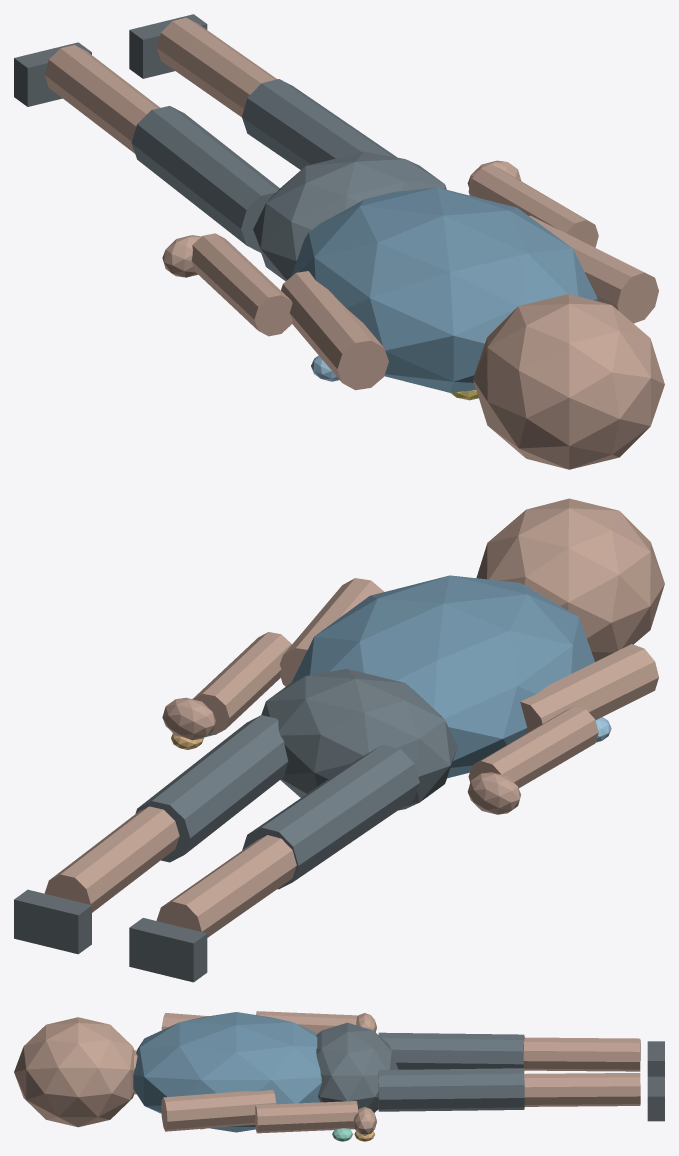
Rendered from patient-vitals-low.glb.
3 renders of one model, top to bottom at view 1: azimuth 30°, elevation 25°; view 2: azimuth 150°, elevation 25°; view 3: azimuth 270°, elevation 25°, orthographic. The views are drawn at different scales.
Parts seen in each view (by area): view 1: torso, head, left_thigh, pelvis, right_thigh, left_upper_arm, left_lower_leg, right_lower_leg, left_forearm, right_upper_arm, right_forearm, left_foot (+2 smaller); view 2: torso, head, pelvis, left_thigh, right_thigh, left_lower_leg, right_lower_leg, left_upper_arm, left_forearm, right_forearm, left_foot, right_foot (+3 smaller); view 3: torso, head, right_thigh, pelvis, left_thigh, left_lower_leg, right_lower_leg, right_upper_arm, right_forearm, left_forearm, right_foot, left_foot (+4 smaller).
Part boxes in pixels (left/top/right/bottom): torso: left=291, top=187, right=597, bottom=392; head: left=473, top=294, right=664, bottom=469; left_thigh: left=131, top=106, right=279, bottom=252; pelvis: left=253, top=151, right=446, bottom=281; right_thigh: left=242, top=79, right=397, bottom=169; left_upper_arm: left=281, top=271, right=388, bottom=390; left_lower_leg: left=44, top=45, right=160, bottom=153; right_lower_leg: left=156, top=17, right=276, bottom=117; left_forearm: left=191, top=233, right=292, bottom=336; right_upper_arm: left=529, top=215, right=658, bottom=323; right_forearm: left=468, top=165, right=598, bottom=247; left_foot: left=14, top=42, right=91, bottom=106; torso: left=292, top=575, right=594, bottom=778; head: left=476, top=498, right=664, bottom=661; pelvis: left=261, top=668, right=457, bottom=810; left_thigh: left=242, top=745, right=419, bottom=889; right_thigh: left=135, top=715, right=288, bottom=862; left_lower_leg: left=156, top=835, right=296, bottom=937; right_lower_leg: left=44, top=806, right=179, bottom=912; left_upper_arm: left=520, top=644, right=658, bottom=734; left_forearm: left=468, top=706, right=598, bottom=788; right_forearm: left=192, top=632, right=291, bottom=734; left_foot: left=129, top=918, right=207, bottom=982; right_foot: left=14, top=889, right=91, bottom=954; torso: left=133, top=1012, right=321, bottom=1132; head: left=14, top=1017, right=134, bottom=1127; right_thigh: left=378, top=1068, right=524, bottom=1111; pelvis: left=316, top=1022, right=398, bottom=1112; left_thigh: left=378, top=1032, right=524, bottom=1069; left_lower_leg: left=523, top=1037, right=640, bottom=1071; right_lower_leg: left=524, top=1073, right=640, bottom=1106; right_upper_arm: left=161, top=1090, right=276, bottom=1131; right_forearm: left=255, top=1101, right=358, bottom=1133; left_forearm: left=256, top=1011, right=358, bottom=1033; right_foot: left=647, top=1076, right=664, bottom=1121; left_foot: left=647, top=1041, right=664, bottom=1076.
Size of the model in its own units: 2.1 by 0.93 by 5.27.
